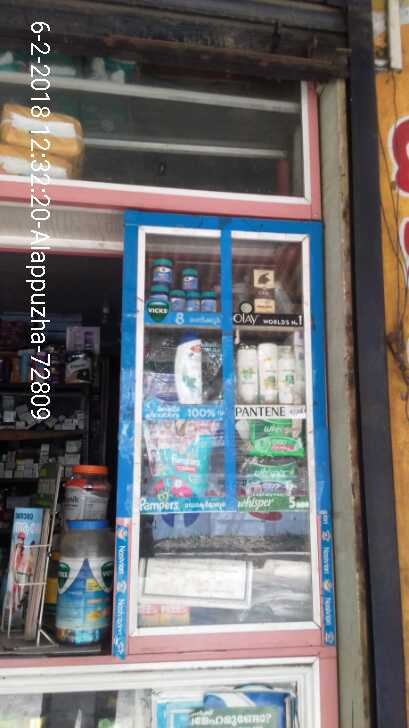vicks: (143, 259, 220, 310)
